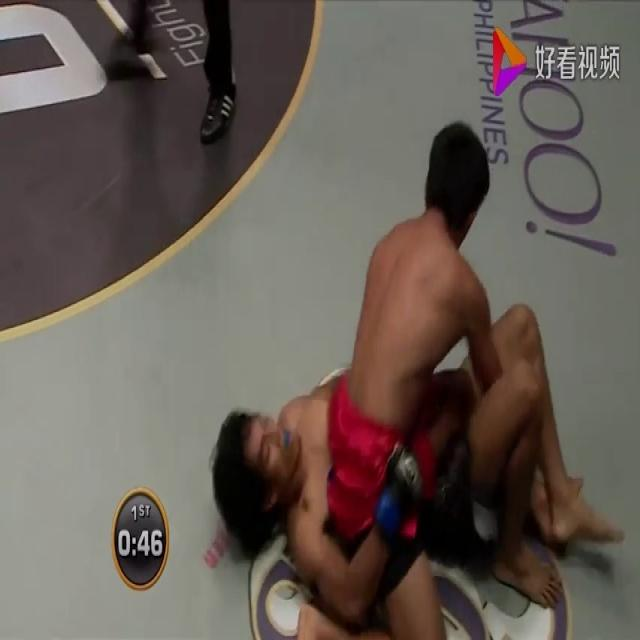fight: (208, 97, 638, 639)
